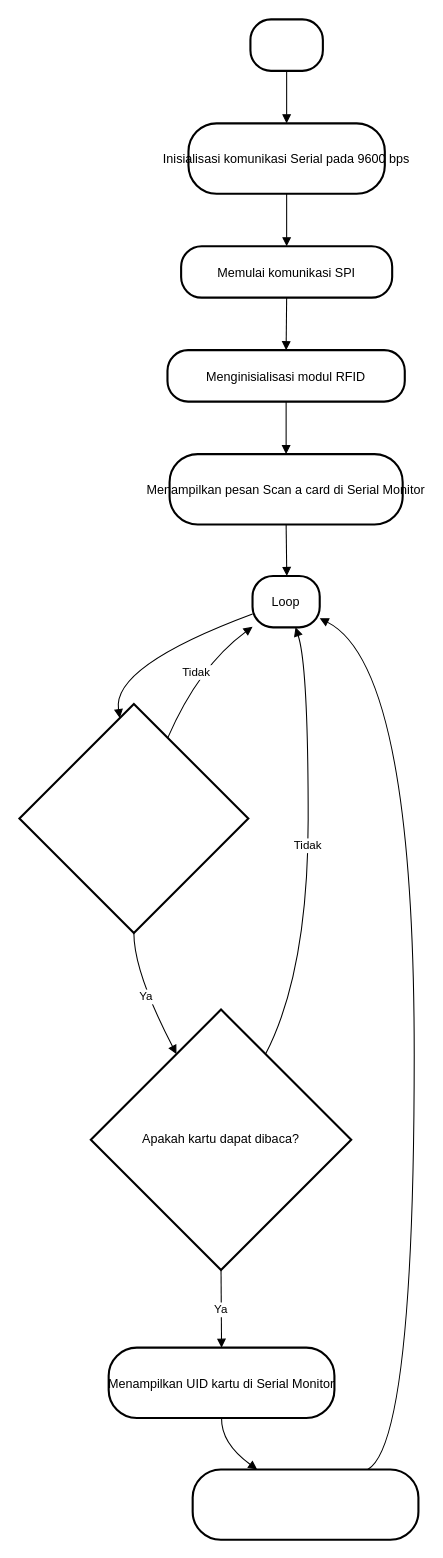
This 443x1558 diagram has some shape labels left out. The shapes that lost their labels are listed below. From the top down, each one's centre as x and y in pixels, then its label:
At (286,44): "Mulai".
At (133,817): "Apakah ada kartu baru?".
At (305,1504): "Menghentikan komunikasi dengan kartu".
